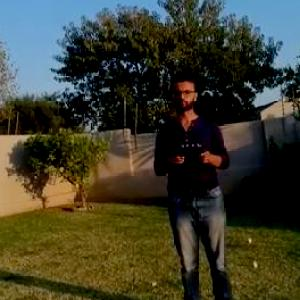follow: (148, 67, 243, 299)
